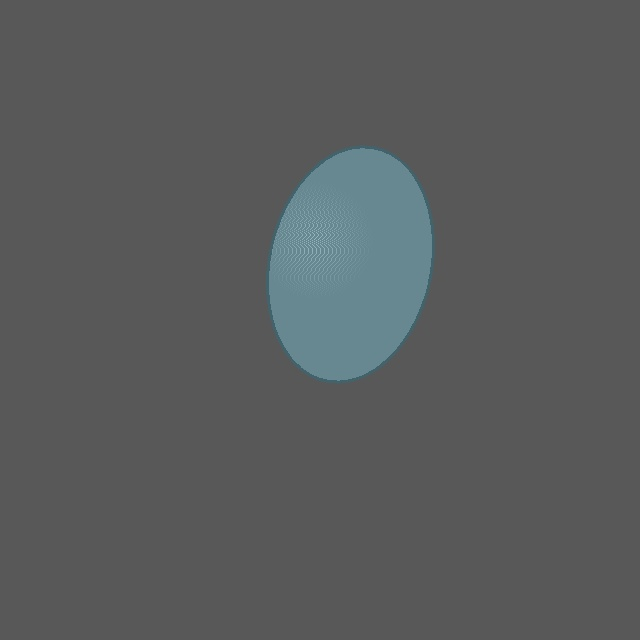lens: (267, 147, 433, 381)
